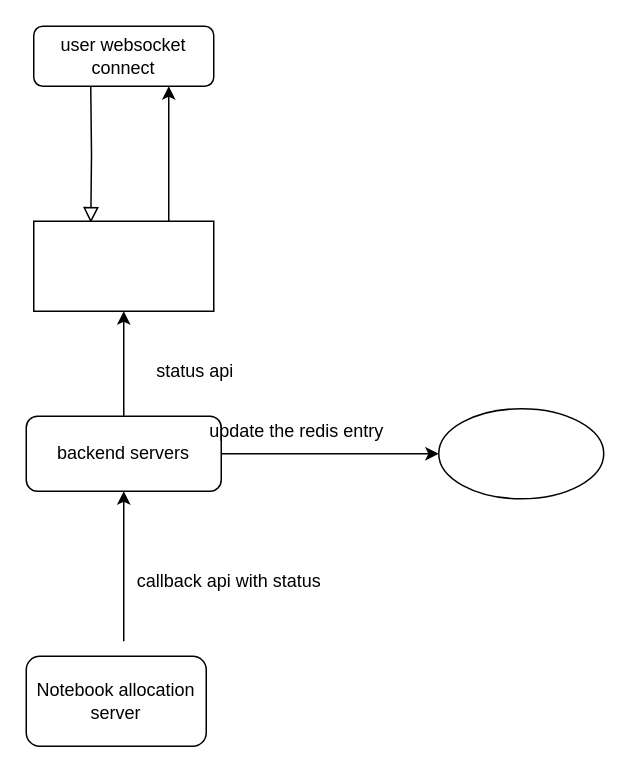
Some shapes in this 630 by 773 pixel diagram are drawn without their labels. The centre of each missing label's shape, as x and y in pixels:
"Redis db" goes at point (520, 453).
"Websocker server" goes at point (123, 265).
